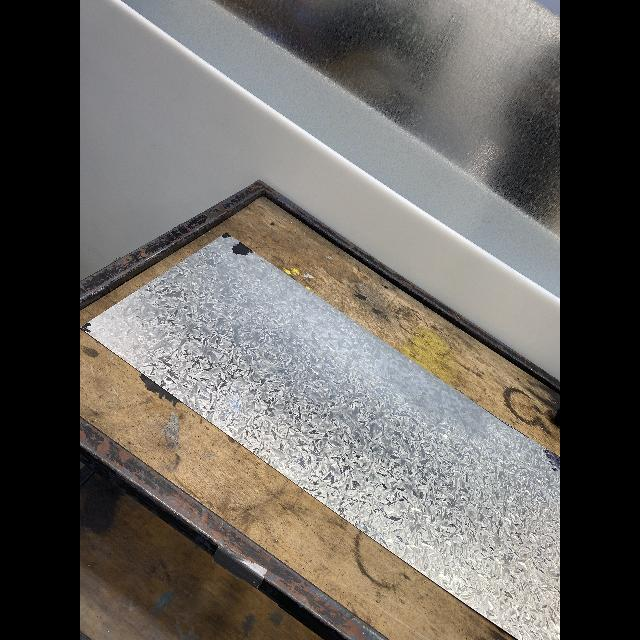Ferrous Metal: (80, 180, 560, 393), (80, 416, 390, 640)
Galvanized Steel: (81, 233, 560, 640), (123, 0, 560, 296)
